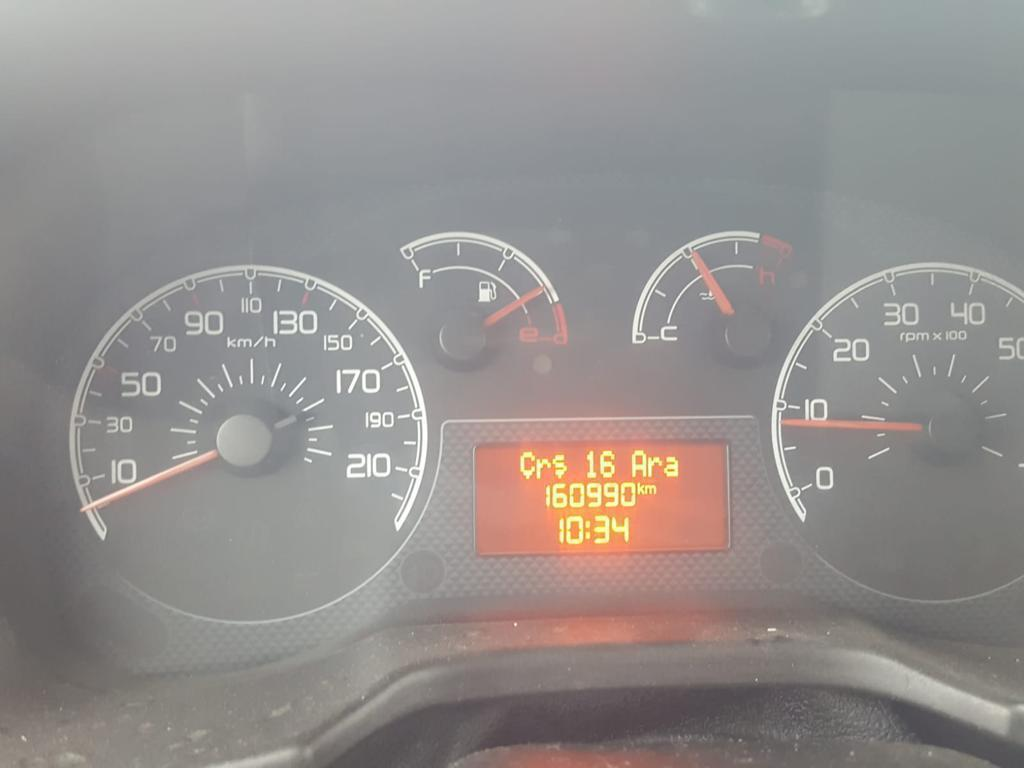0: (565, 514, 584, 545), (569, 482, 585, 508), (620, 481, 636, 506)
1: (584, 447, 597, 480), (557, 515, 565, 545), (544, 483, 551, 507)
3: (592, 513, 610, 544)
4: (611, 515, 630, 543)
6: (599, 449, 615, 479), (551, 482, 567, 509)
9: (603, 481, 619, 507), (586, 481, 602, 507)
X: (551, 452, 569, 480), (519, 450, 535, 480), (631, 448, 646, 478), (535, 455, 551, 480), (663, 456, 679, 477), (647, 455, 662, 477), (644, 483, 656, 495), (585, 518, 591, 540), (637, 481, 644, 494)
odometer: (471, 435, 731, 553)
